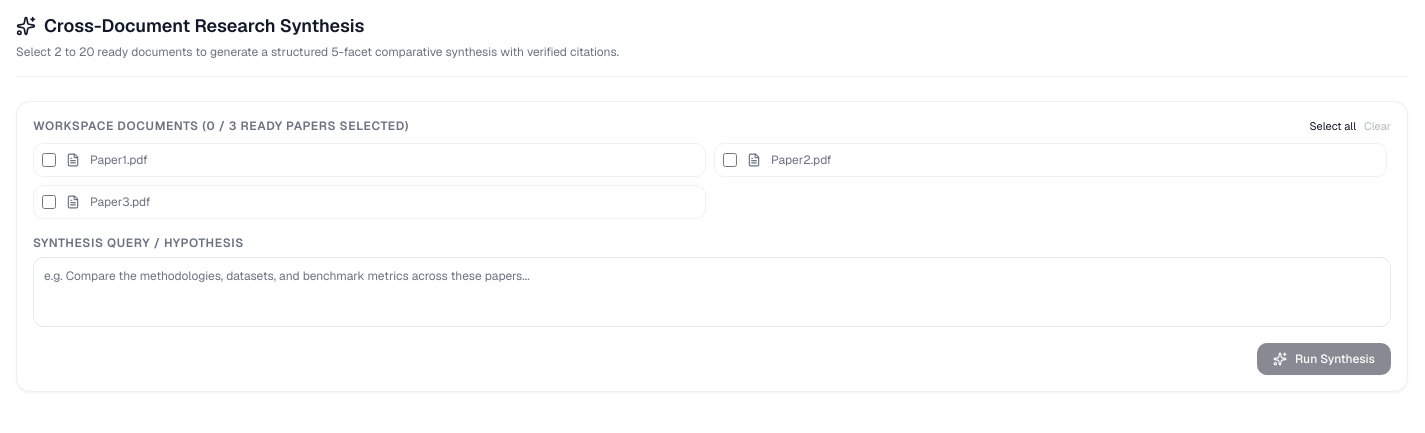
Test case: WorkspaceResearchSynthesisPanel › enforces minimum 2 documents before allowing synthesis submission
expect the button "Run Synthesis" is disabled: met, box [1257,342,1391,374]
Select 1 document
Click the checkbox labelled "Paper1.pdf".
click(49, 160)  # box [42,152,56,166]
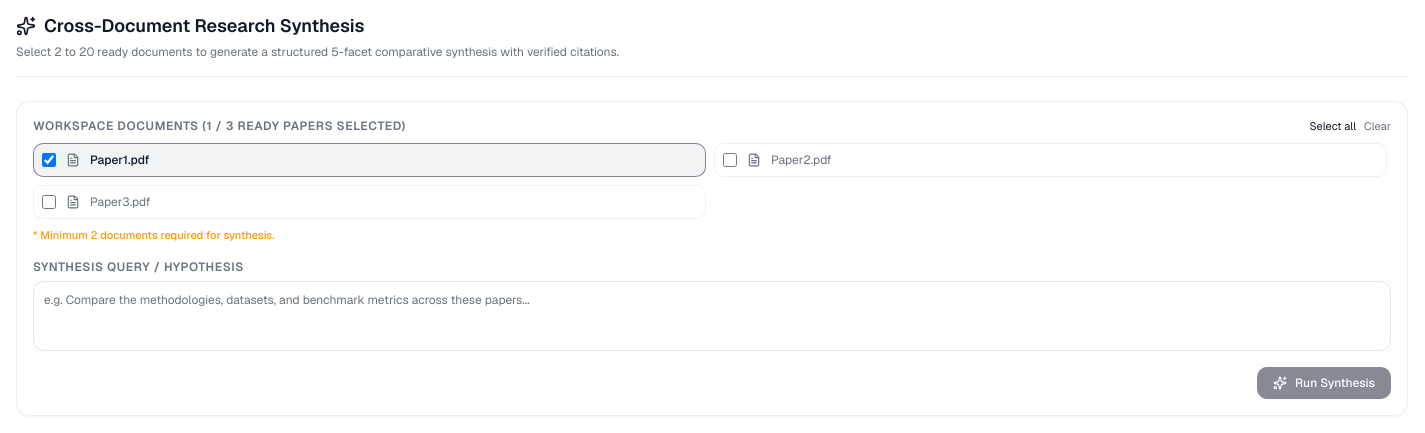
expect the button "Run Synthesis" is disabled: met, box [1257,367,1391,399]
expect the text "* Minimum 2 documents required for synthesis." is shown: met, box [33,228,275,242]
Select 2nd document
Click the checkbox labelled "Paper2.pdf".
click(730, 160)  # box [723,152,737,166]
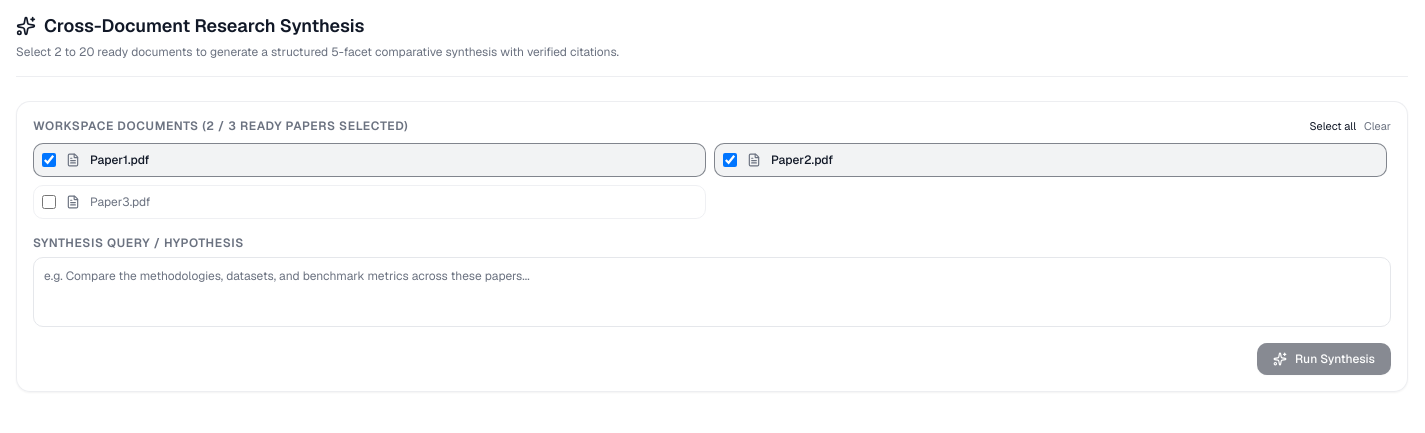
expect the text "Minimum 2 documents required" is gone: met
Add query
Replace the text in the text box with placeholder "Compare the methodologies" with "Synthesize findings" at (712, 292), box [33,256,1391,326]
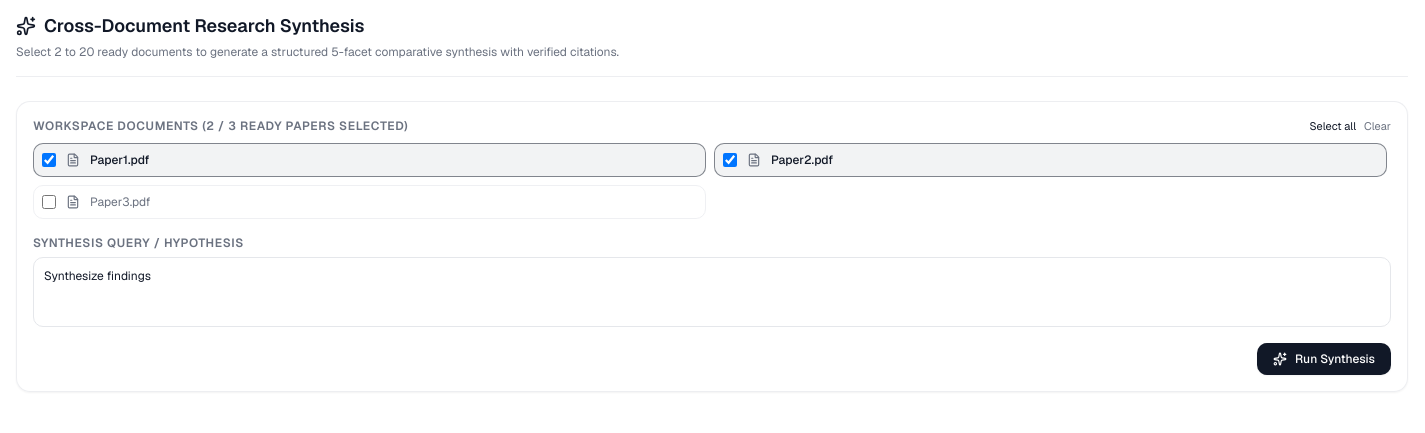
expect the button "Run Synthesis" is enabled: met, box [1257,342,1391,374]
